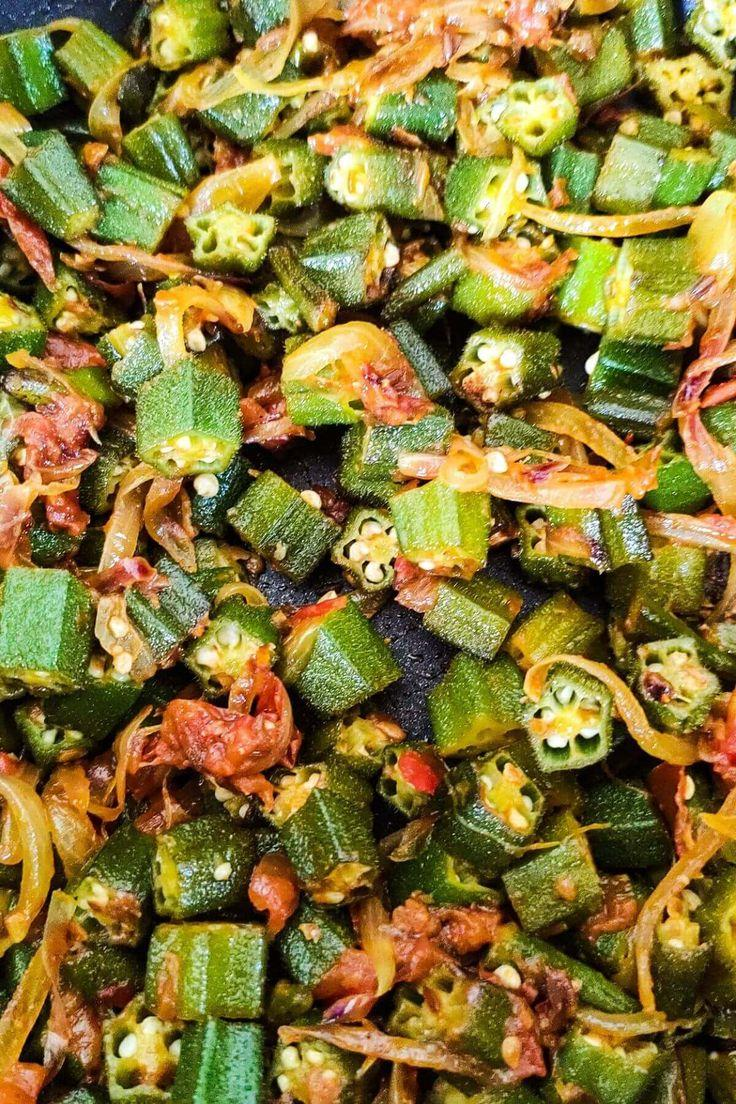bhindi: (0, 29, 736, 1104)
